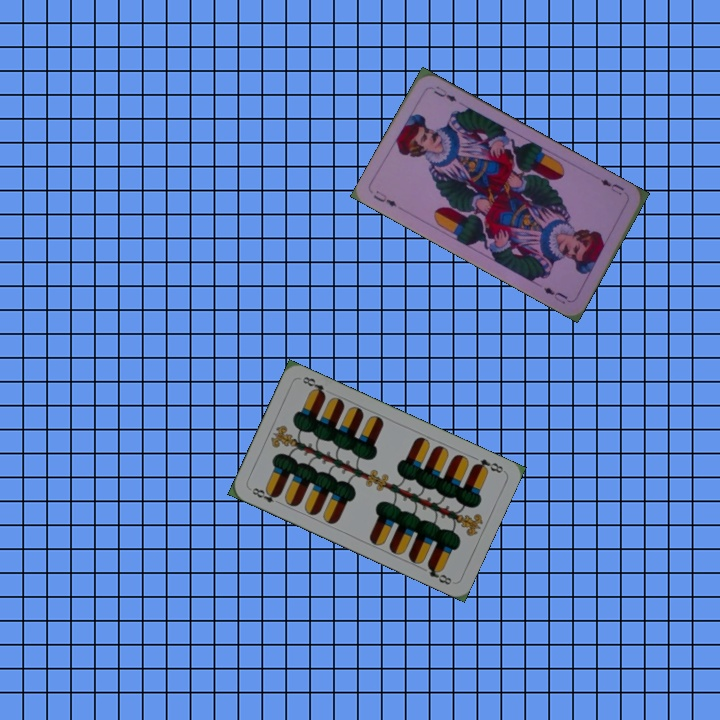E8: (246, 483, 284, 507), (469, 455, 506, 476)
EU: (369, 186, 399, 210), (596, 175, 626, 198)
